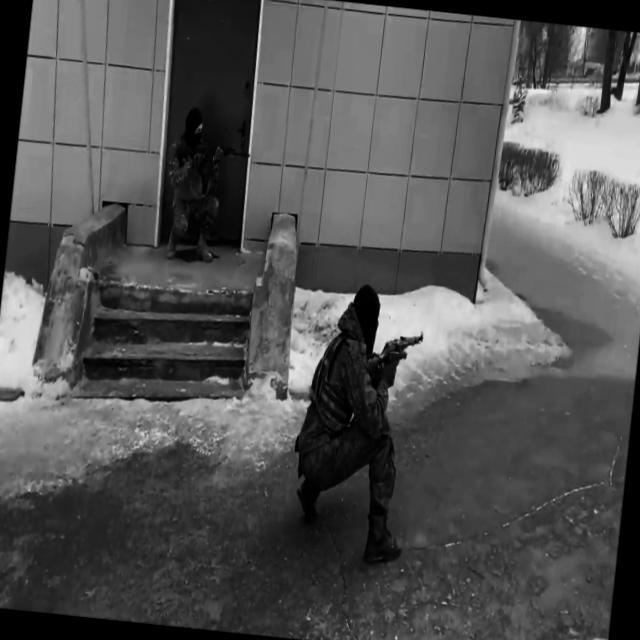gun: (364, 324, 424, 389), (173, 139, 250, 181), (386, 349, 408, 374)
person with a gun: (286, 278, 429, 568), (158, 105, 254, 266)
